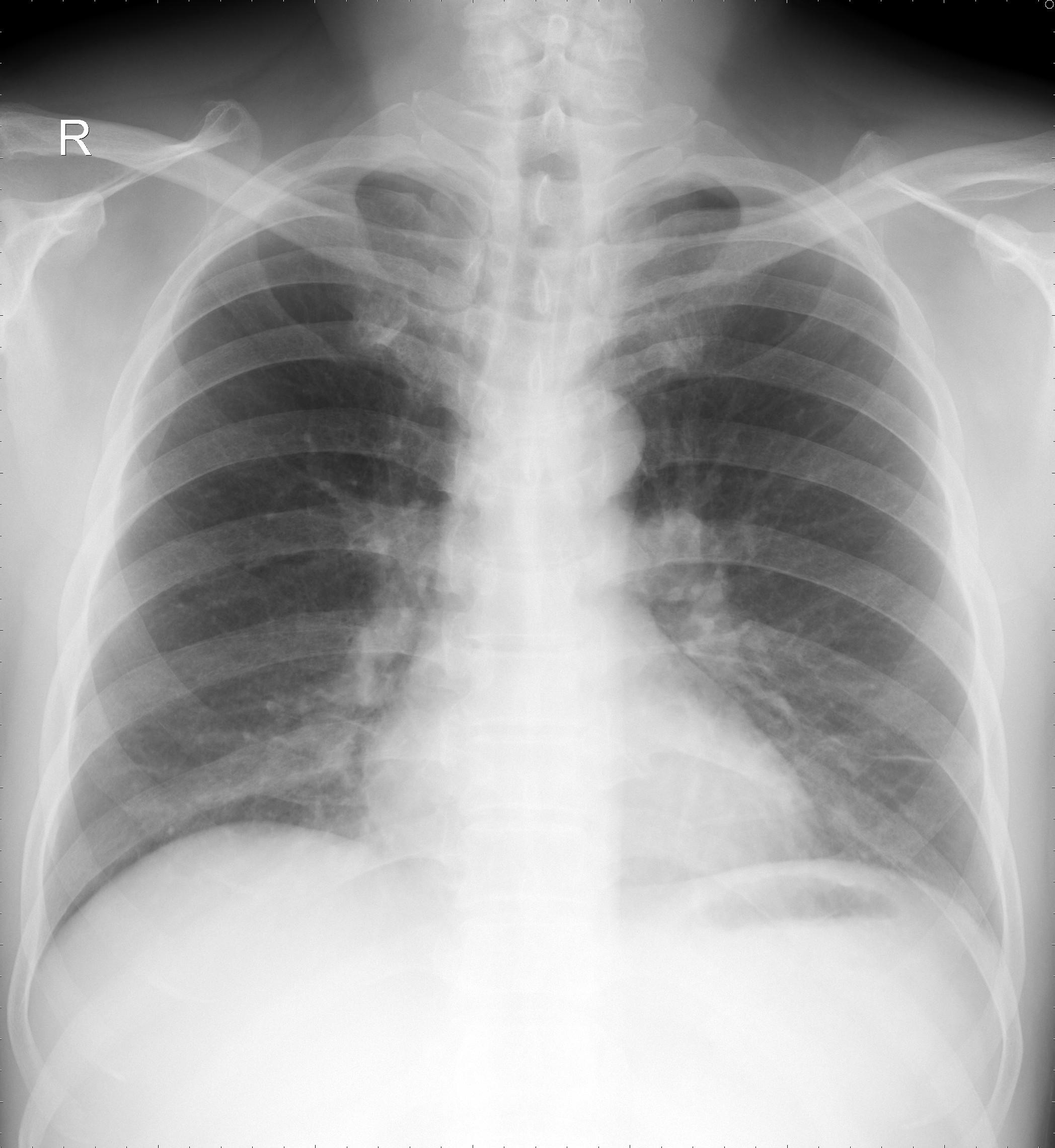Pleural thickening: (304, 154, 431, 199)
Pulmonary fibrosis: (846, 741, 958, 770)
